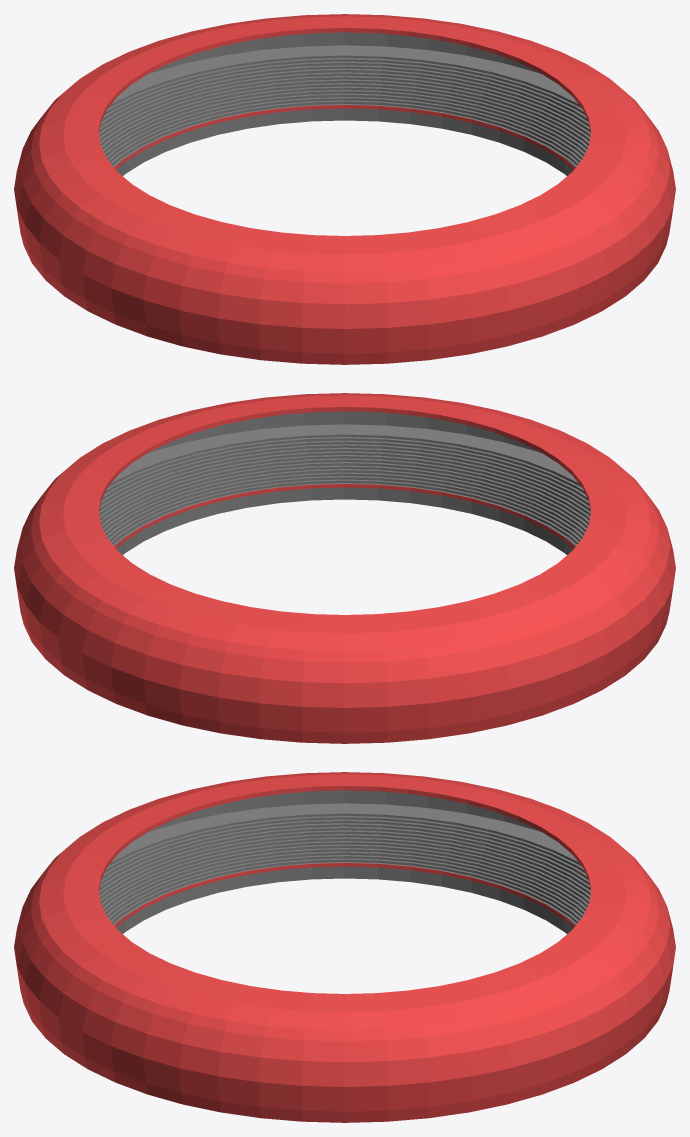
The model's file is Stadium.obj.
3 views of the same model, one above another, from view 1: azimuth 30°, elevation 25°; view 2: azimuth 150°, elevation 25°; view 3: azimuth 270°, elevation 25° (orthographic).
Parts seen in each view (by area): view 1: Torus; view 2: Torus; view 3: Torus.
Part boxes in pixels (x1,y1,x2,y2): Torus: [14, 14, 675, 364]; Torus: [14, 393, 675, 743]; Torus: [14, 772, 675, 1122].
Bounding box in the file's own units: 12.69 × 2.03 × 12.69.
